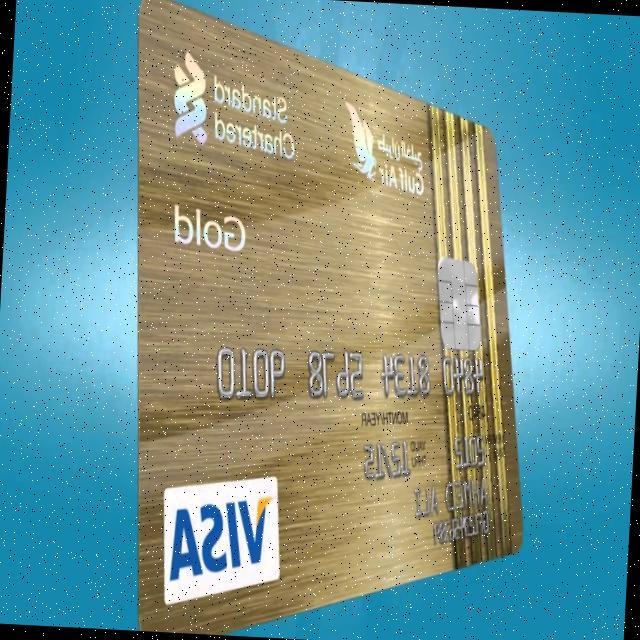Standard Chartered: (170, 47, 299, 160)
